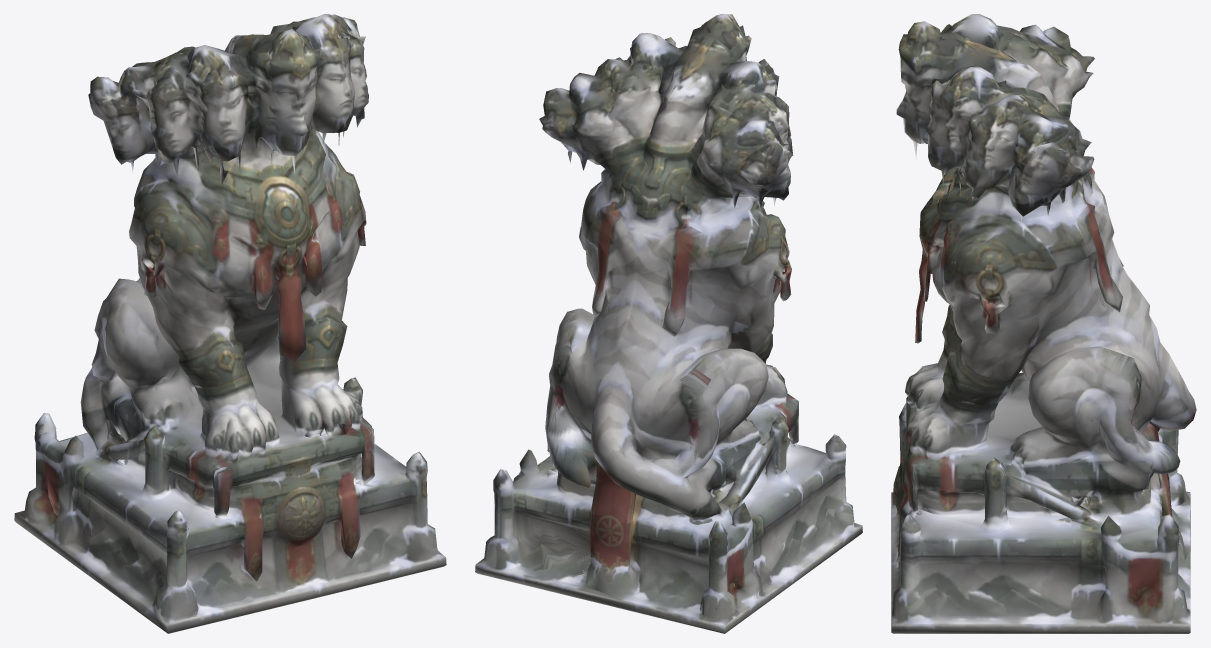
Rendered from SM_Tripo_FrostKaiming.glb.
3 renders of one model, left to right at view 1: azimuth 30°, elevation 25°; view 2: azimuth 150°, elevation 25°; view 3: azimuth 270°, elevation 25°, orthographic. The views are drawn at different scales.
Visible parts, largest first — view 1: SM_Tripo_FrostKaiming_LOD0; view 2: SM_Tripo_FrostKaiming_LOD0; view 3: SM_Tripo_FrostKaiming_LOD0.
Boxes of the visible parts, x1=… form: SM_Tripo_FrostKaiming_LOD0: x1=14, y1=14, x2=446, y2=633; SM_Tripo_FrostKaiming_LOD0: x1=475, y1=14, x2=862, y2=633; SM_Tripo_FrostKaiming_LOD0: x1=891, y1=14, x2=1196, y2=633.
Bounding box in the file's own units: 8.13 × 15.54 × 7.88.
Materials: 1 (1 with a texture image).
